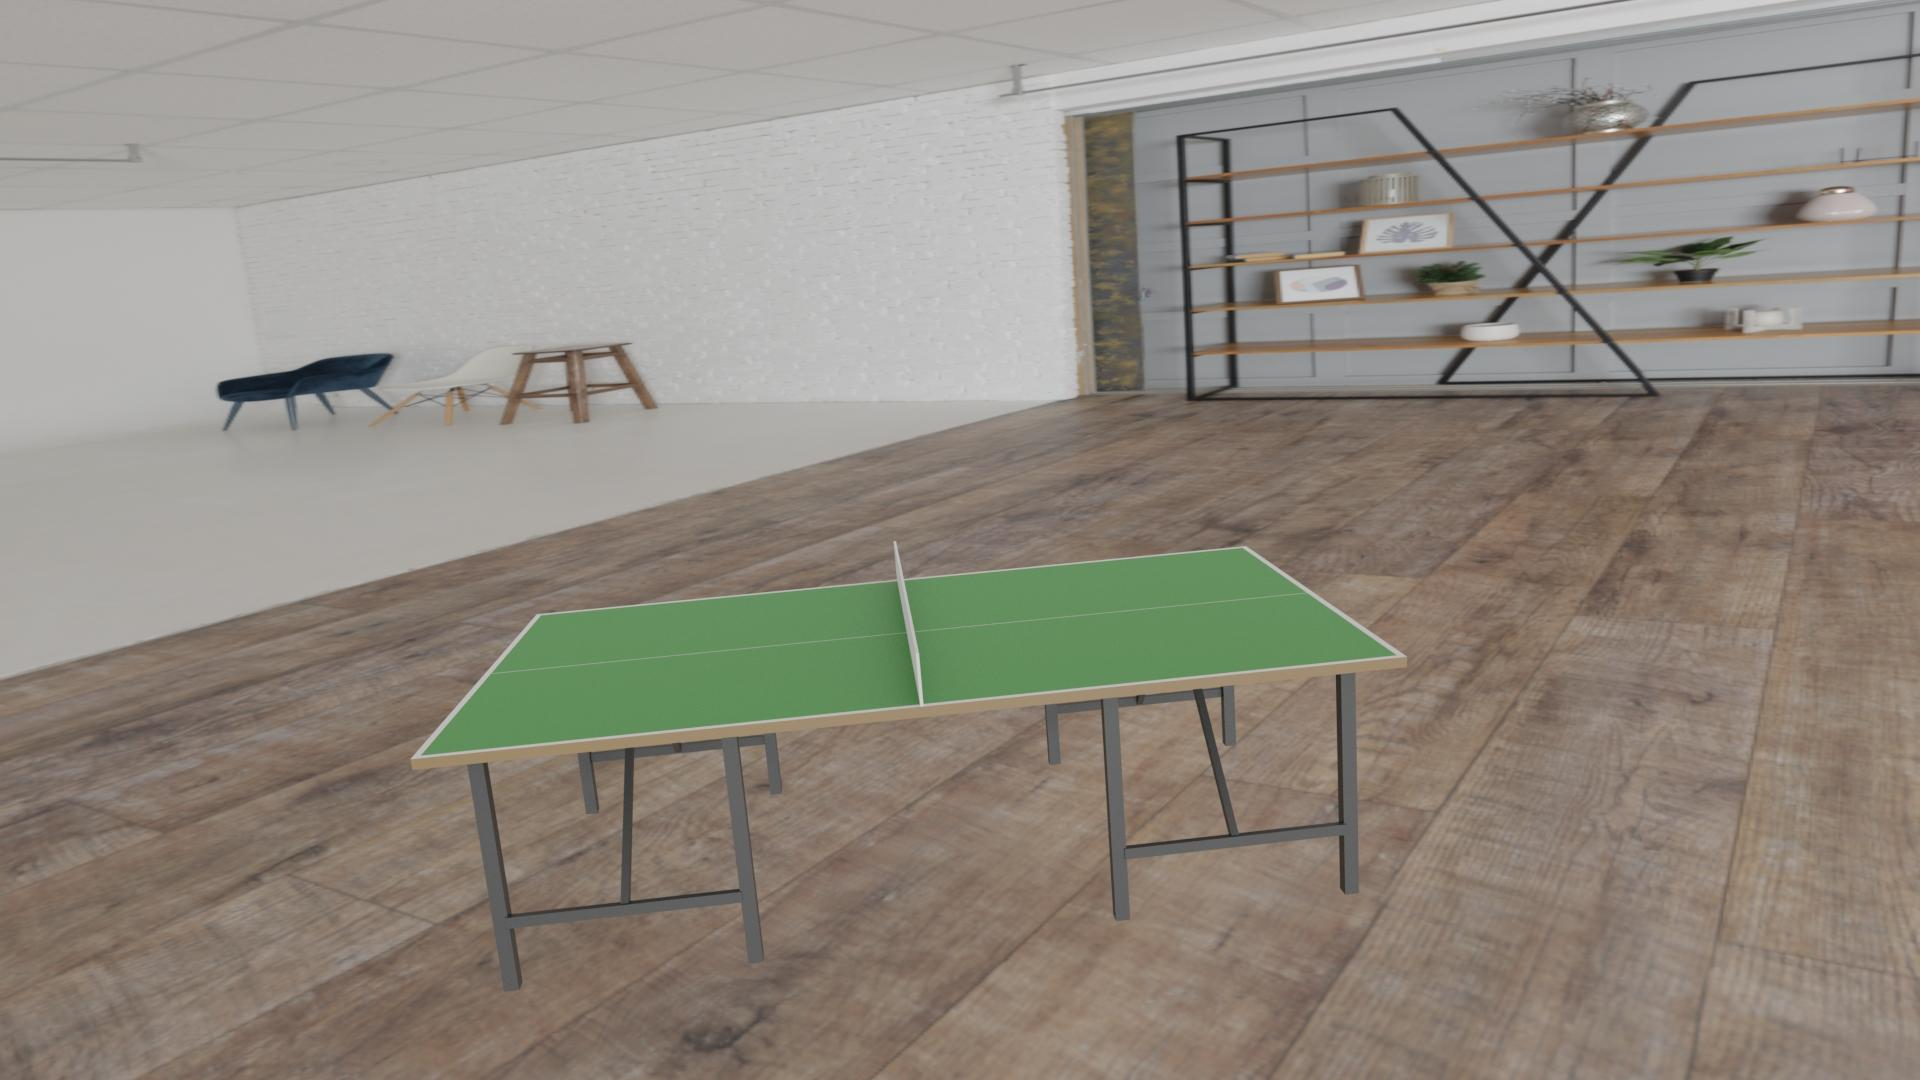table: (421, 547, 1398, 756)
